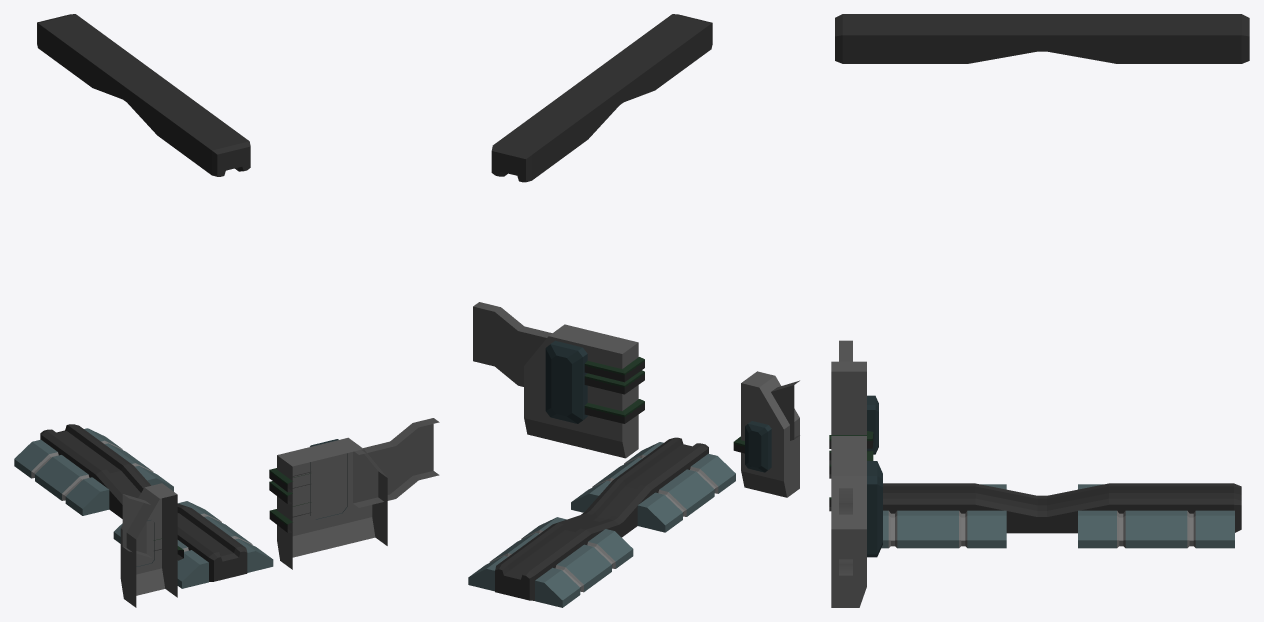
File: SM_wall_front_trap.fbx
3 renders of one model, left to right at view 1: azimuth 30°, elevation 25°; view 2: azimuth 150°, elevation 25°; view 3: azimuth 270°, elevation 25°, orthographic. The views are drawn at different scales.
Visible parts, largest first — view 1: SM_wall_front_trap; view 2: SM_wall_front_trap; view 3: SM_wall_front_trap.
Part boxes in pixels (bbox=[...]): SM_wall_front_trap: bbox=[14, 14, 439, 607]; SM_wall_front_trap: bbox=[468, 14, 799, 607]; SM_wall_front_trap: bbox=[829, 14, 1249, 607].
Size of the model in its own units: 300 by 400 by 306.
1 material, 1 textured.
